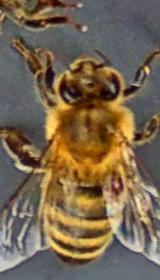varroa_mite: (105, 164, 129, 197)
